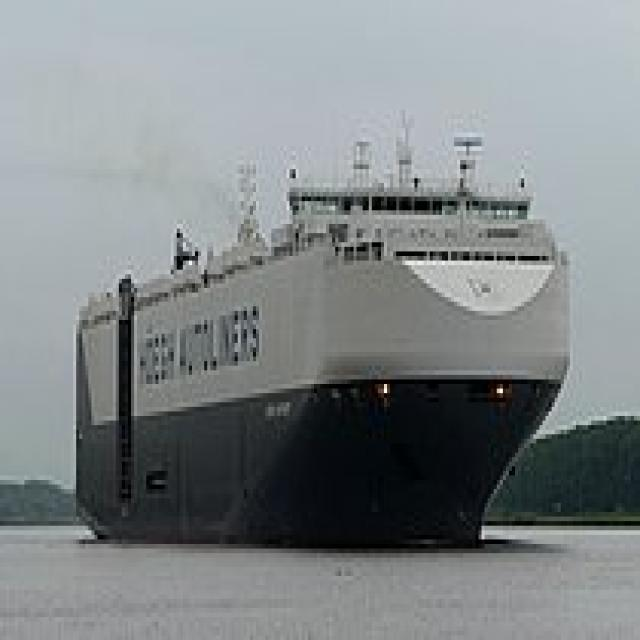Carrier: (67, 96, 573, 553)
